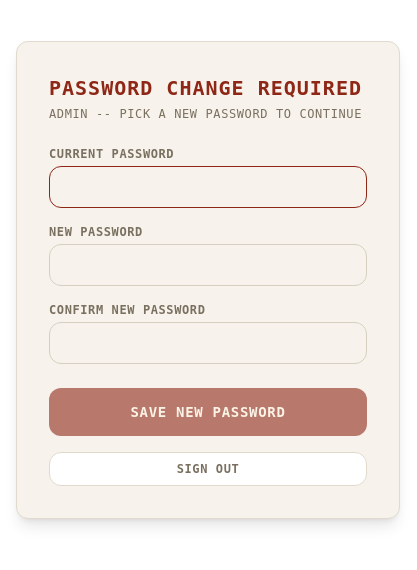
Test: <ChangePasswordScreen> › renders the friendly invalid_credentials message on 401
Type "wrong" into the password field labelled "Current password" at (208, 187), box [49,166,367,208]
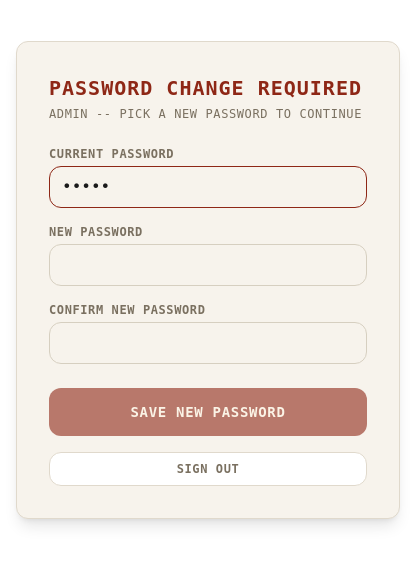
Type "abc12345" into the password field labelled "New password" at (208, 265), box [49,244,367,286]
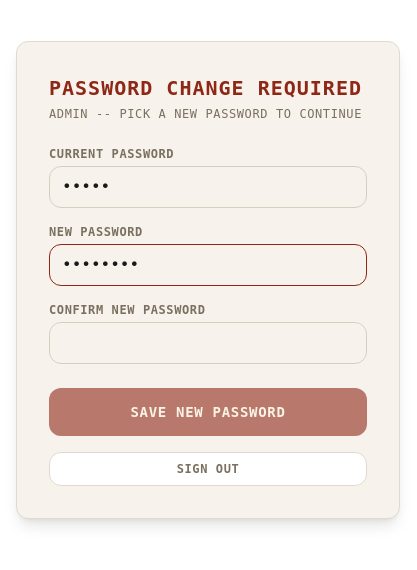
Type "abc12345" into the password field labelled "Confirm new password" at (208, 343), box [49,322,367,364]
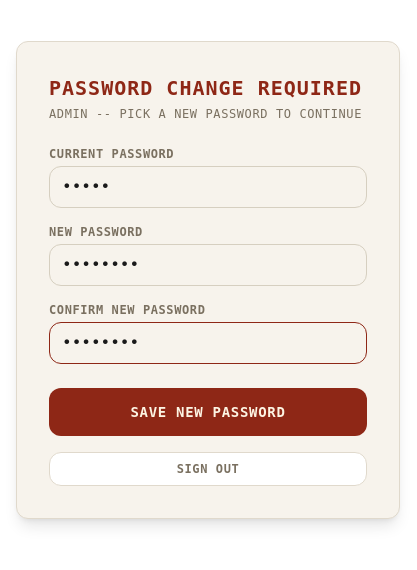
Click the button "Save new password" at (208, 412), box [49,388,367,436]
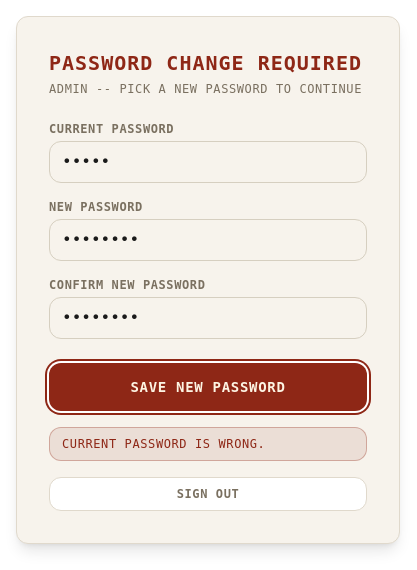
Expected: the text "Current password is wrong." is shown, [49,427,367,461]
